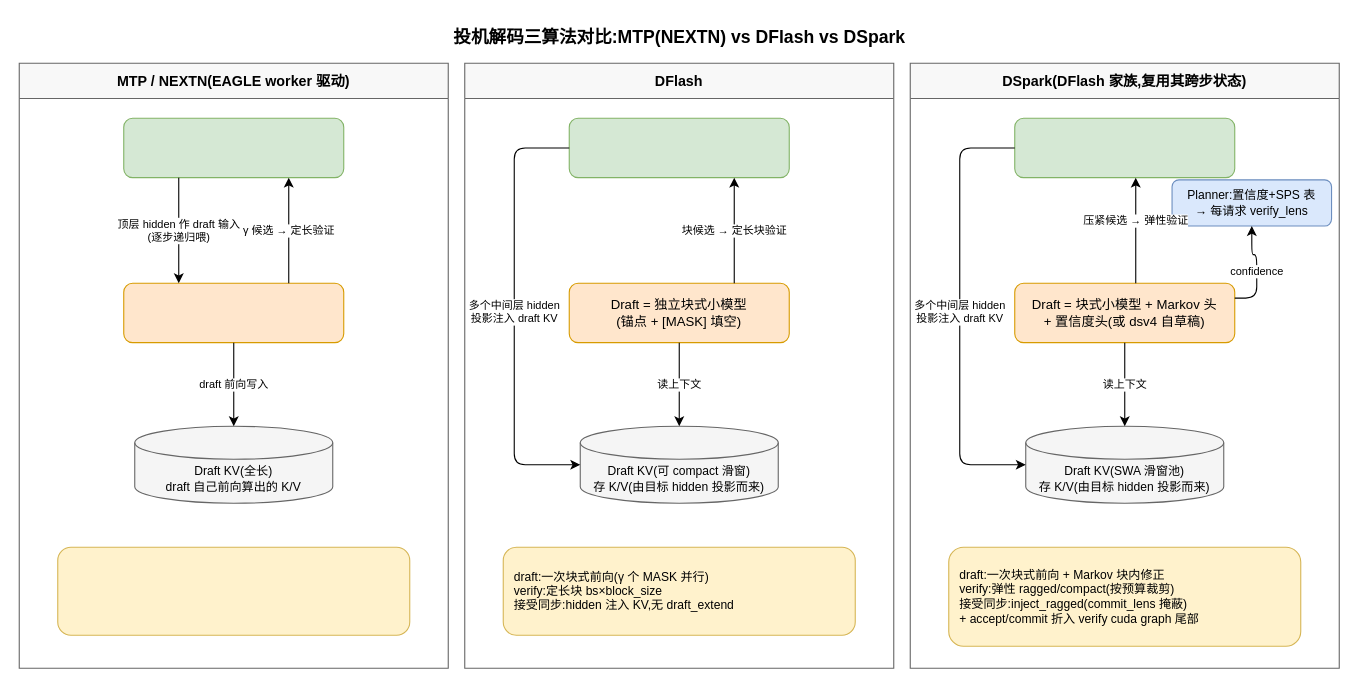
Image size: 1359x688. Some labels were removed from this diagram. Each missing label, with the box of its shape:
Draft = MTP 头 (目标 checkpoint 自带,1 层): (123, 282, 344, 343)
draft:γ 次自回归小步(串行) verify:定长 bs×(γ+1) 接受同步:draft_extend 重算前向写 KV: (57, 546, 410, 635)
目标模型 (dflash_layers_to_capture 捕获): (568, 117, 789, 178)
目标模型 (dspark_layers_to_capture 捕获): (1014, 117, 1235, 178)
目标模型 (MTP 头与其同 checkpoint 训练): (123, 117, 344, 178)
